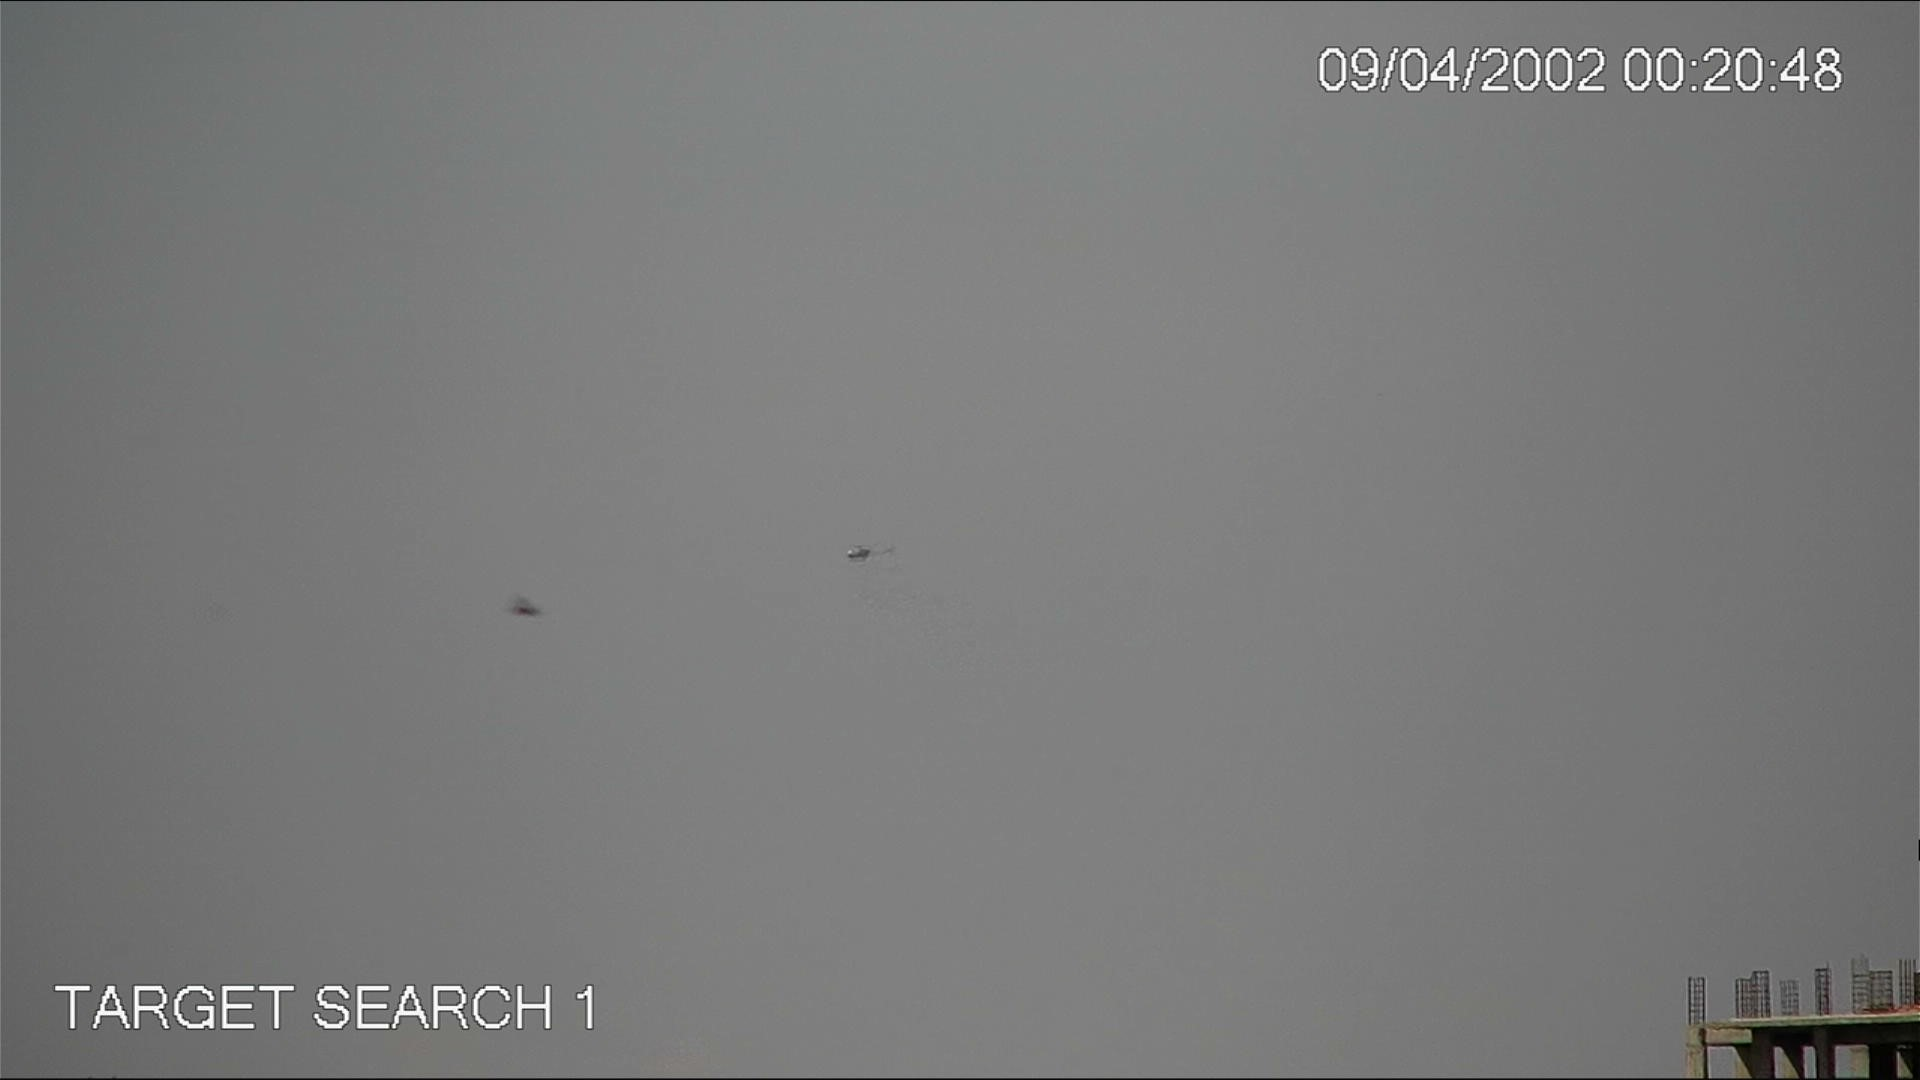SU_30: (844, 545, 876, 564)
